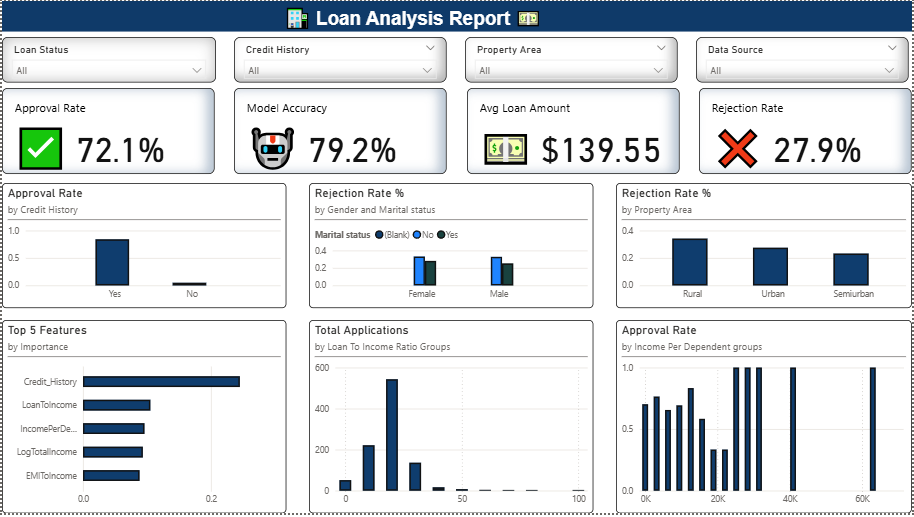

The page's visual inventory and layout, read from the dashboard file:
{"tool":"powerbi","page":{"name":"overview","canvas":[1280,720],"ordinal":0},"visuals":[{"type":"textbox","box":[0,0,1280,43],"z":0,"group":"g4"},{"type":"slicer","fields":{"Values":["lending_data.Data_Source"]},"box":[976,50,299,64],"z":0,"group":"g2"},{"type":"cardVisual","fields":{"Data":["emoji kpi labels.Approval Rate Display"]},"box":[0,122,299.3,121],"z":0,"group":"g1"},{"type":"columnChart","fields":{"Category":["lending_data.Credit History Text"],"Y":["~Primary KPIs.Approval Rate (Current Context) %"]},"box":[0,256,400,176],"z":0,"group":"g3"},{"type":"barChart","title":"Top 5 Features","fields":{"Category":["feature_importance.Feature"],"Y":["Sum(feature_importance.Importance)"]},"box":[0,448,400,272],"z":0},{"type":"textbox","box":[392,0,496,48],"z":1000,"group":"g4"},{"type":"slicer","fields":{"Values":["lending_data.Credit History Text"]},"box":[326.8,50,299,64],"z":1000,"group":"g2"},{"type":"cardVisual","fields":{"Data":["emoji kpi labels.Model Accuracy Display"]},"box":[326.9,122,299.3,121],"z":1000,"group":"g1"},{"type":"clusteredColumnChart","fields":{"Y":["~Primary KPIs.Rejection Rate %"],"Category":["lending_data.Gender"],"Series":["lending_data.Married"]},"box":[432,256,400,176],"z":1000,"group":"g3"},{"type":"columnChart","fields":{"Category":["lending_data.LoanToIncome (bins)"],"Y":["~Primary KPIs.Total Applications"]},"box":[432,448,400,272],"z":1000},{"type":"slicer","fields":{"Values":["lending_data.Loan_Status"]},"box":[0,50,301.2,64],"z":2000,"group":"g2"},{"type":"cardVisual","fields":{"Data":["emoji kpi labels.Avg Loan Amount Display"]},"box":[653.8,122,299.3,121],"z":2000,"group":"g1"},{"type":"clusteredColumnChart","fields":{"Y":["~Primary KPIs.Rejection Rate %"],"Category":["lending_data.Property_Area"]},"box":[864,256,416,176],"z":2000,"group":"g3"},{"type":"columnChart","fields":{"Y":["~Primary KPIs.Approval Rate (Current Context) %"],"Category":["lending_data.IncomePerDependent (bins)"]},"box":[864,448,416,272],"z":2000},{"type":"slicer","fields":{"Values":["lending_data.Property_Area"]},"box":[651.4,50,299,64],"z":3000,"group":"g2"},{"type":"group","id":"g1","title":"Group 1","box":[0,122,1280.3,121],"z":3000},{"type":"cardVisual","fields":{"Data":["emoji kpi labels.Rejection Rate display"]},"box":[981,122,299.3,121],"z":3000,"group":"g1"},{"type":"group","id":"g2","title":"Group 2","box":[0,50,1275,64],"z":4000},{"type":"group","id":"g3","title":"Group 3","box":[0,256,1280,176],"z":5000},{"type":"group","id":"g4","title":"Group 4","box":[0,0,1280,48],"z":6000}]}

Visuals, with their boxes in screenshot pixels (x1, y1, x2, y2), scaled from the page's 1280x720 canvas onto the 914x517 screenshot:
textbox: bbox(0, 0, 913, 31)
slicer - lending_data.Data_Source: bbox(697, 36, 910, 82)
cardVisual - emoji kpi labels.Approval Rate Display: bbox(0, 88, 214, 174)
columnChart - lending_data.Credit History Text x ~Primary KPIs.Approval Rate (Current Context) %: bbox(0, 184, 286, 310)
"Top 5 Features" barChart: bbox(0, 322, 286, 516)
textbox: bbox(280, 0, 634, 34)
slicer - lending_data.Credit History Text: bbox(233, 36, 447, 82)
cardVisual - emoji kpi labels.Model Accuracy Display: bbox(233, 88, 447, 174)
clusteredColumnChart - ~Primary KPIs.Rejection Rate % x lending_data.Gender: bbox(308, 184, 594, 310)
columnChart - lending_data.LoanToIncome (bins) x ~Primary KPIs.Total Applications: bbox(308, 322, 594, 516)
slicer - lending_data.Loan_Status: bbox(0, 36, 215, 82)
cardVisual - emoji kpi labels.Avg Loan Amount Display: bbox(467, 88, 681, 174)
clusteredColumnChart - ~Primary KPIs.Rejection Rate % x lending_data.Property_Area: bbox(617, 184, 913, 310)
columnChart - ~Primary KPIs.Approval Rate (Current Context) % x lending_data.IncomePerDependent (bins): bbox(617, 322, 913, 516)
slicer - lending_data.Property_Area: bbox(465, 36, 679, 82)
"Group 1" group: bbox(0, 88, 913, 174)
cardVisual - emoji kpi labels.Rejection Rate display: bbox(700, 88, 913, 174)
"Group 2" group: bbox(0, 36, 910, 82)
"Group 3" group: bbox(0, 184, 913, 310)
"Group 4" group: bbox(0, 0, 913, 34)
